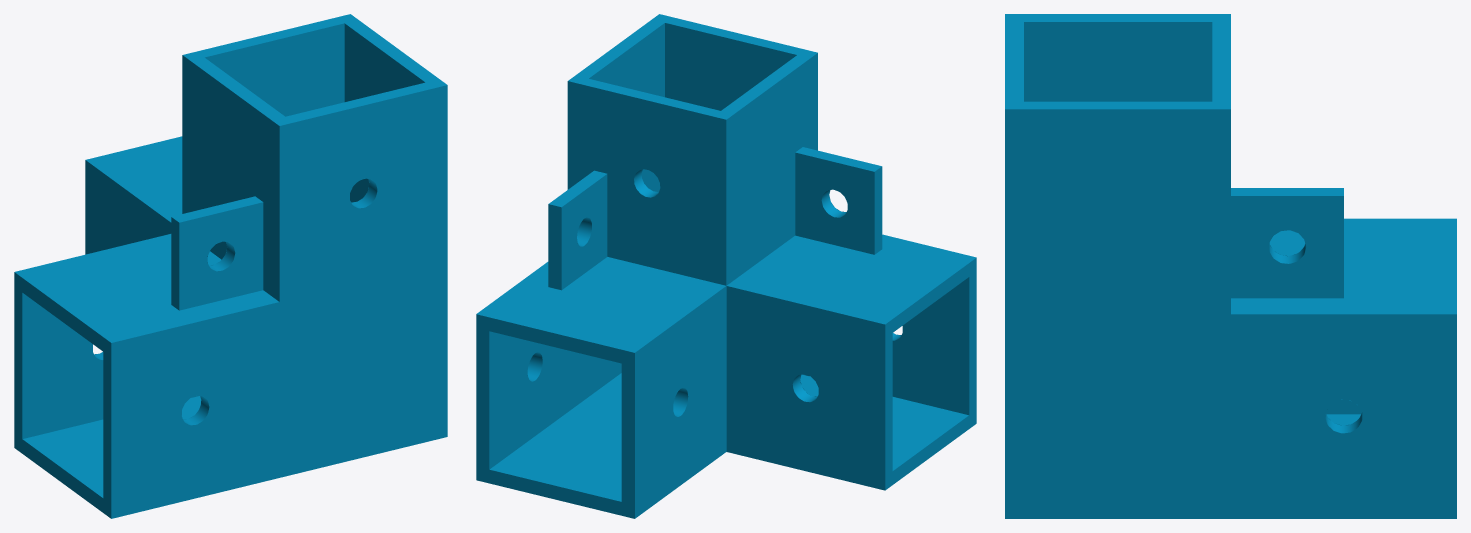
File: Connector Detail 3 Ways.glb
The picture shows the model from 3 angles, left to right: view 1: azimuth 30°, elevation 25°; view 2: azimuth 150°, elevation 25°; view 3: azimuth 270°, elevation 25°; orthographic projection. The views are drawn at different scales.
Parts seen in each view (by area): view 1: object_1; view 2: object_1; view 3: object_1.
Boxes of the visible parts, left/top/right/bottom form: object_1: left=14, top=14, right=447, bottom=518; object_1: left=476, top=14, right=976, bottom=518; object_1: left=1005, top=14, right=1456, bottom=518.
Size of the model in its own units: 12 by 12 by 12.
